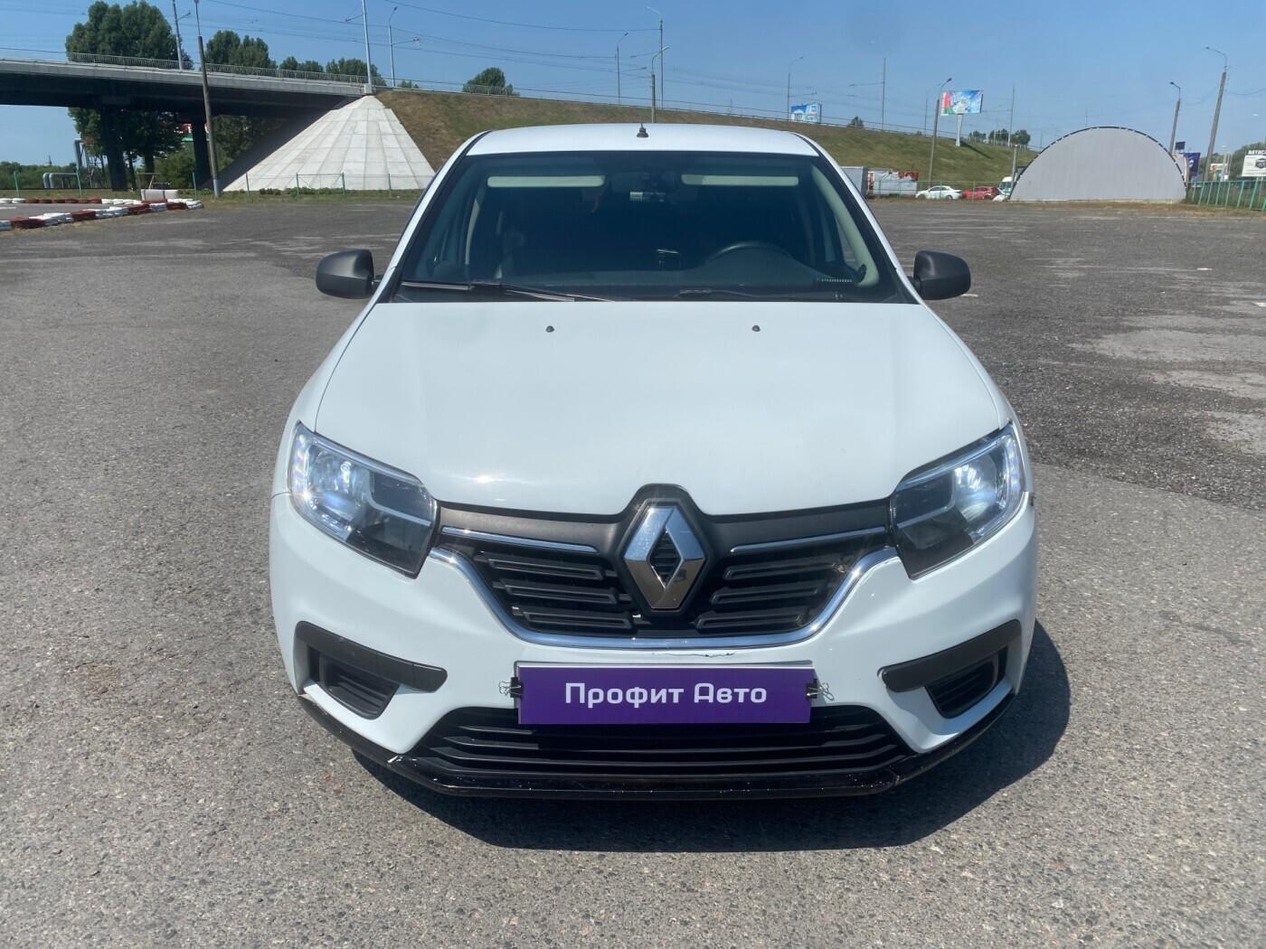Logan_2018: (249, 121, 1039, 822)
